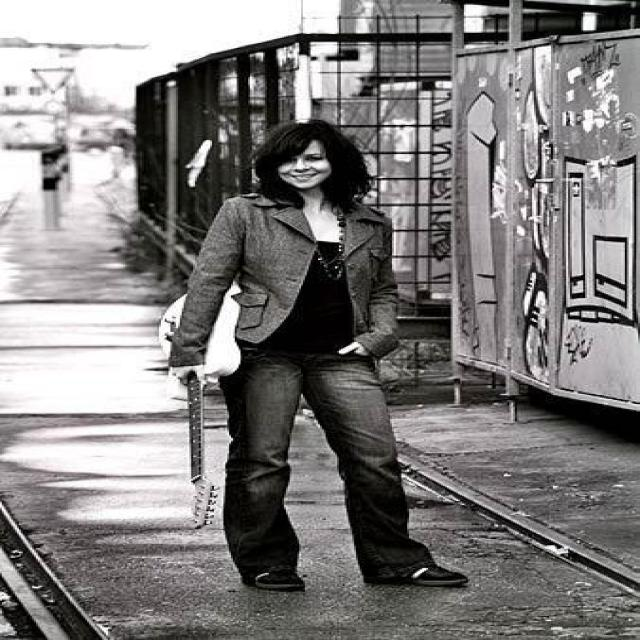guitar: (160, 287, 262, 526)
